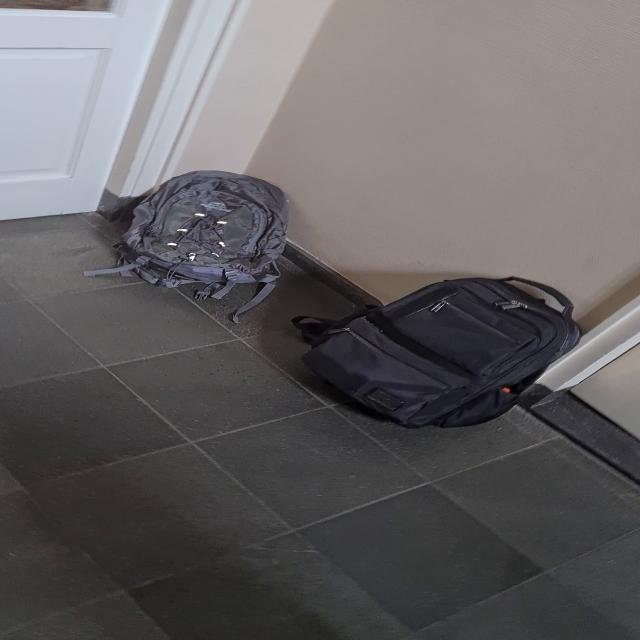backpack: (288, 280, 596, 430), (121, 163, 308, 296)
